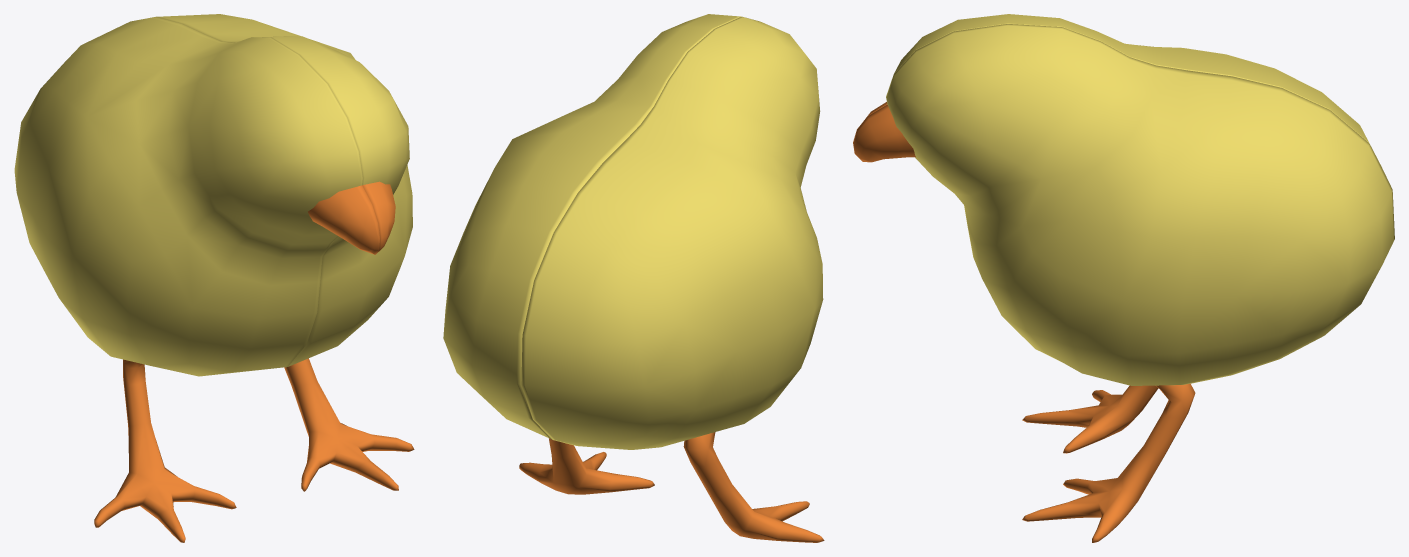
File: SM_Quail_01b.fbx
3 renders of one model, left to right at view 1: azimuth 30°, elevation 25°; view 2: azimuth 150°, elevation 25°; view 3: azimuth 270°, elevation 25°, orthographic. The views are drawn at different scales.
Visible parts, largest first — view 1: Quail_02, Quail_01; view 2: Quail_02, Quail_01; view 3: Quail_01, Quail_02.
Boxes of the visible parts, x1,y1,x2,y2 form: Quail_02: (14,17,379,542); Quail_01: (156,14,414,491); Quail_02: (521,16,824,542); Quail_01: (443,14,740,494); Quail_01: (853,24,1394,542); Quail_02: (857,14,1390,453).
Size of the model in its own units: 23.43 by 31.6 by 34.64.
